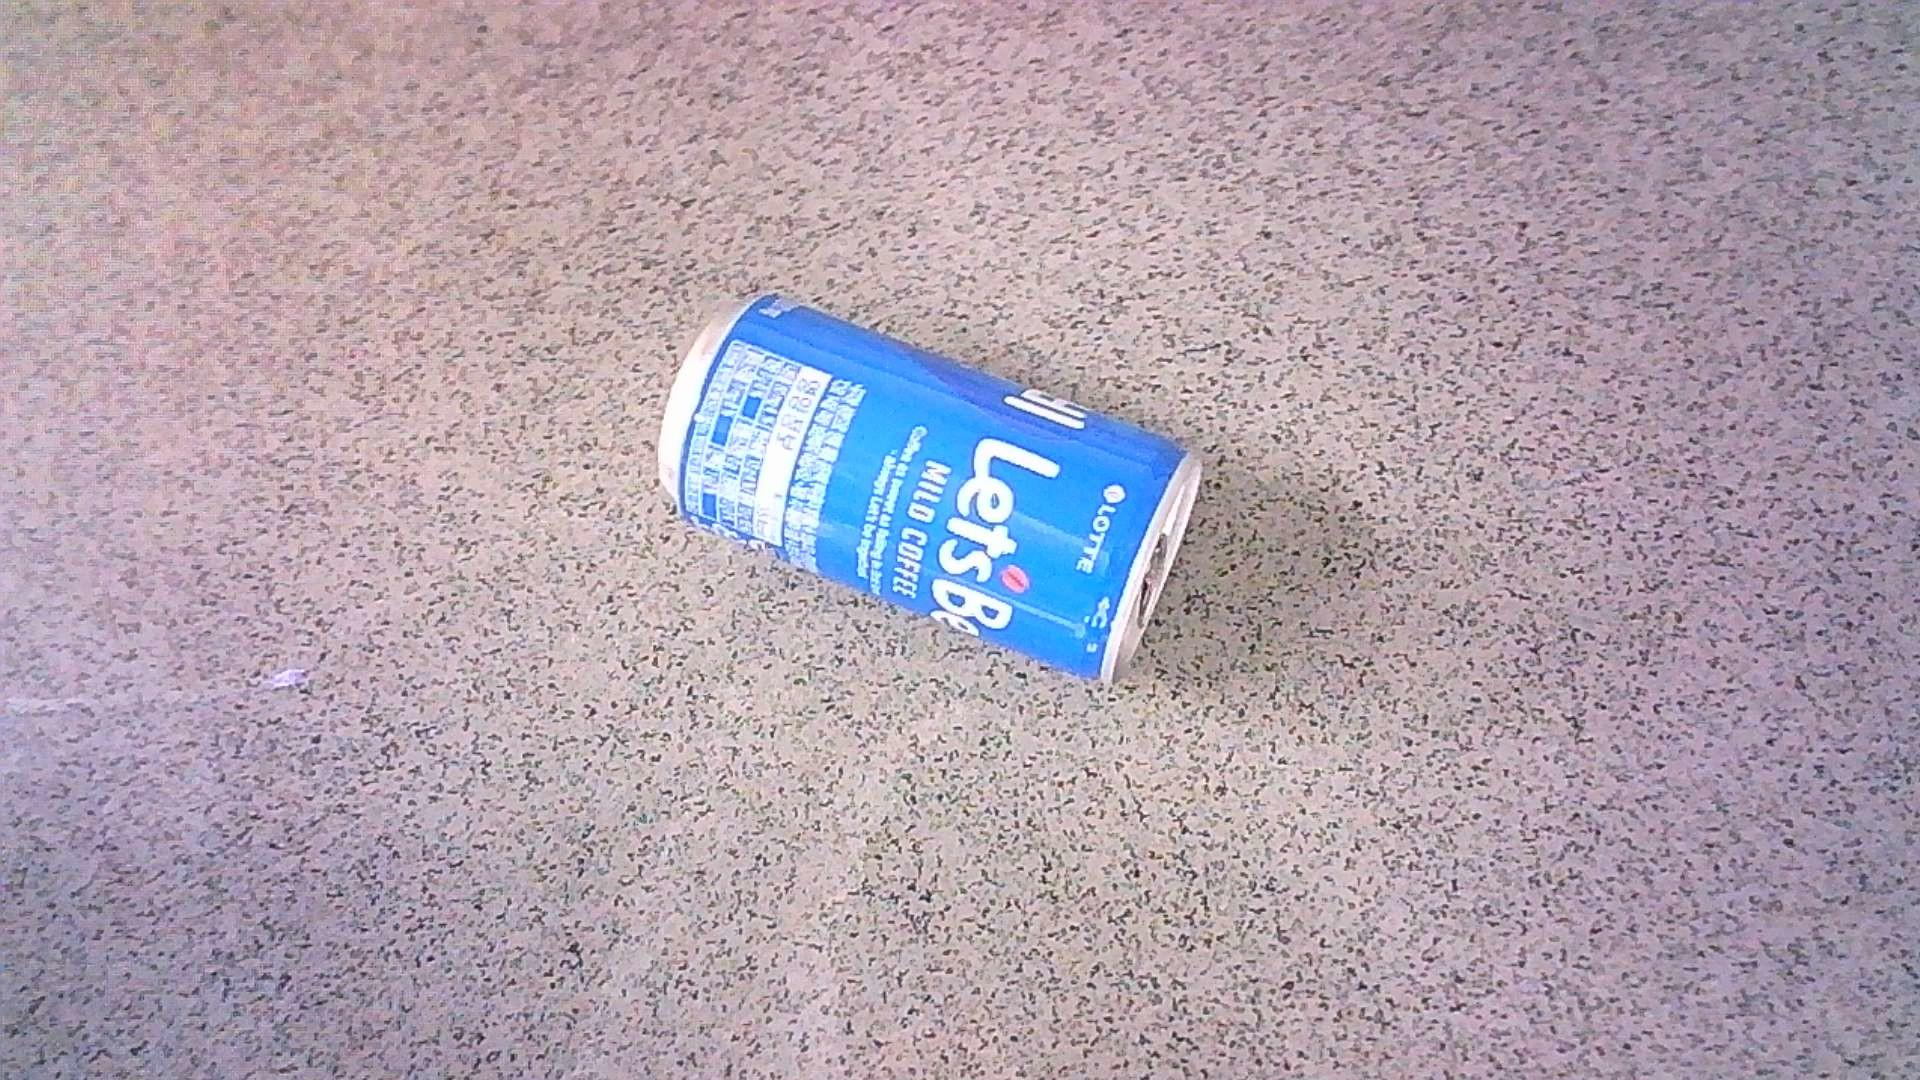letsbe: (659, 294, 1204, 686)
